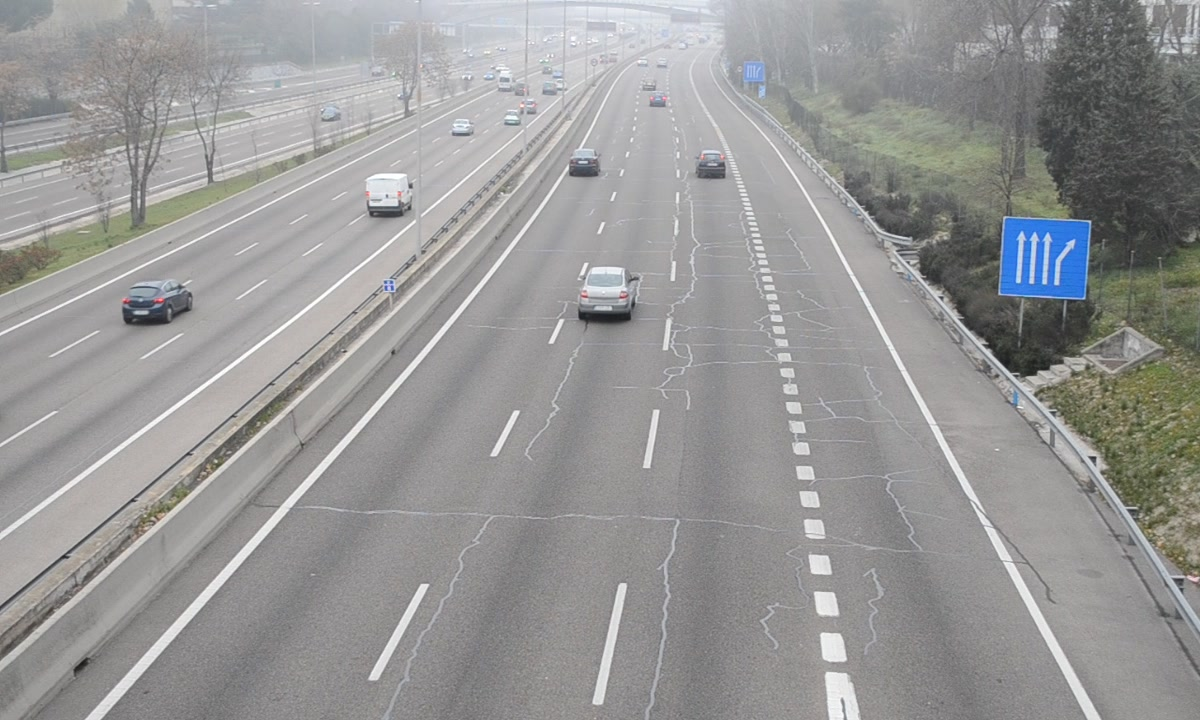car: (579, 267, 632, 318), (696, 151, 727, 180), (569, 149, 600, 177)
